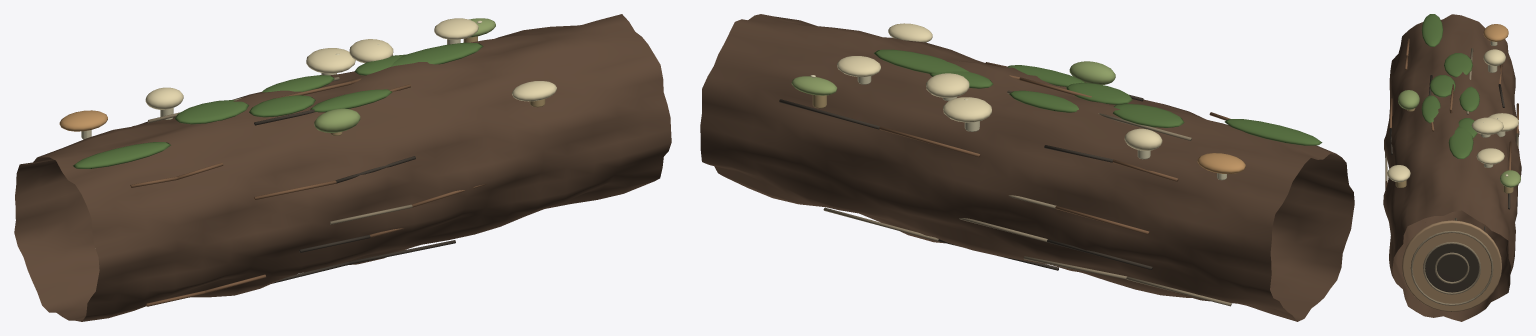
Rendered from tronco_podre_fungos.glb.
The picture shows the model from 3 angles, left to right: view 1: azimuth 30°, elevation 25°; view 2: azimuth 150°, elevation 25°; view 3: azimuth 270°, elevation 25°; orthographic projection. The views are drawn at different scales.
Parts seen in each view (by area): view 1: Tronco oco | casca encharcada, Pântano | Musgo de pântano, Pântano | Fungo | bege pálido, Pântano | Casca úmida | castanho, Pântano | Fendas podres | sombra, Pântano | Fungo | verde oliva, Chapéu de fungo.005, Pântano | Casca desbotada | cinza marrom; view 2: Tronco oco | casca encharcada, Pântano | Musgo de pântano, Pântano | Fungo | bege pálido, Pântano | Casca desbotada | cinza marrom, Pântano | Fungo | verde oliva, Pântano | Casca úmida | castanho, Pântano | Fendas podres | sombra, Chapéu de fungo.005, Pântano | Haste de fungo | creme; view 3: Tronco oco | casca encharcada, Corte de madeira podre, Pântano | Musgo de pântano, Pântano | Fendas podres | sombra, Pântano | Fungo | bege pálido, Pântano | Casca desbotada | cinza marrom, Pântano | Fungo | verde oliva, Pântano | Casca úmida | castanho, Chapéu de fungo.005, Pântano | Haste de fungo | creme, Pântano | Haste de fungo | ocre.
Part boxes in pixels (x1,y1,x2,y2): Tronco oco | casca encharcada: (14, 14, 671, 321); Pântano | Musgo de pântano: (73, 42, 483, 168); Pântano | Fungo | bege pálido: (145, 18, 556, 109); Pântano | Casca úmida | castanho: (130, 78, 486, 306); Pântano | Fendas podres | sombra: (232, 95, 455, 283); Pântano | Fungo | verde oliva: (314, 18, 495, 132); Chapéu de fungo.005: (59, 110, 107, 131); Pântano | Casca desbotada | cinza marrom: (95, 77, 412, 248); Tronco oco | casca encharcada: (700, 14, 1354, 321); Pântano | Musgo de pântano: (874, 49, 1322, 145); Pântano | Fungo | bege pálido: (837, 23, 1162, 150); Pântano | Casca desbotada | cinza marrom: (823, 90, 1231, 306); Pântano | Fungo | verde oliva: (791, 61, 1115, 95); Pântano | Casca úmida | castanho: (879, 62, 1230, 234); Pântano | Fendas podres | sombra: (779, 94, 1152, 270); Chapéu de fungo.005: (1197, 153, 1245, 173); Pântano | Haste de fungo | creme: (810, 74, 1226, 180); Tronco oco | casca encharcada: (1383, 14, 1521, 321); Corte de madeira podre: (1402, 220, 1501, 311); Pântano | Musgo de pântano: (1421, 14, 1479, 158); Pântano | Fendas podres | sombra: (1389, 75, 1510, 292); Pântano | Fungo | bege pálido: (1387, 49, 1518, 182); Pântano | Casca desbotada | cinza marrom: (1385, 48, 1518, 305); Pântano | Fungo | verde oliva: (1398, 90, 1520, 187); Pântano | Casca úmida | castanho: (1385, 38, 1518, 189); Chapéu de fungo.005: (1483, 24, 1508, 41); Pântano | Haste de fungo | creme: (1480, 41, 1508, 176); Pântano | Haste de fungo | ocre: (1395, 108, 1513, 193).
Size of the model in its own units: 1.78 by 0.5329 by 0.5223.
